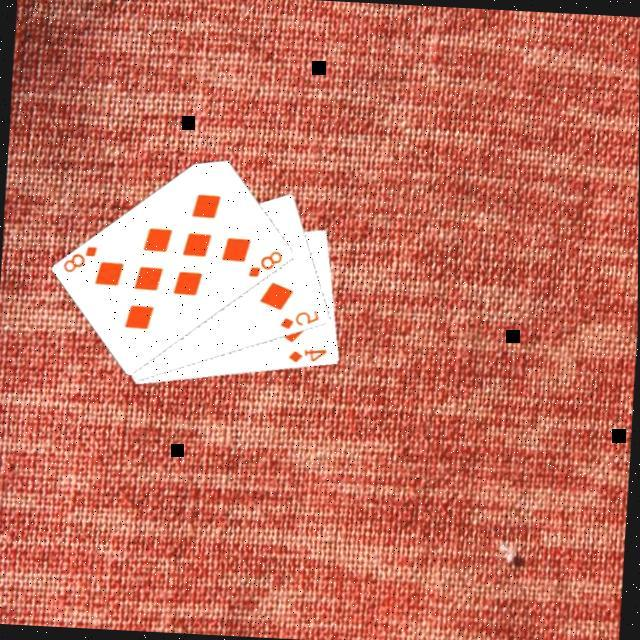4D: (284, 345, 328, 368)
5D: (276, 306, 322, 334)
8D: (243, 246, 286, 282), (58, 242, 100, 278)
